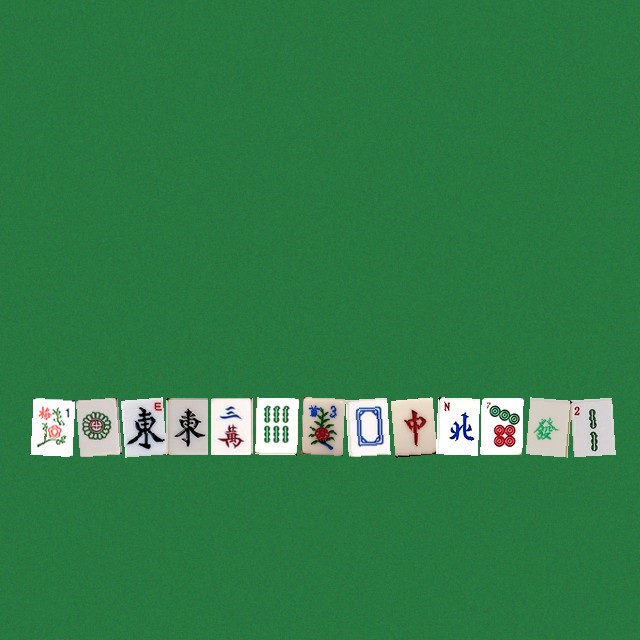tile: (30, 397, 72, 454), (75, 397, 117, 454), (120, 397, 162, 454), (165, 397, 207, 454), (210, 397, 252, 454), (255, 397, 297, 454), (300, 397, 342, 454), (345, 397, 387, 454), (390, 397, 432, 454), (435, 397, 477, 454), (480, 397, 522, 454), (525, 397, 567, 454), (570, 397, 612, 454)
